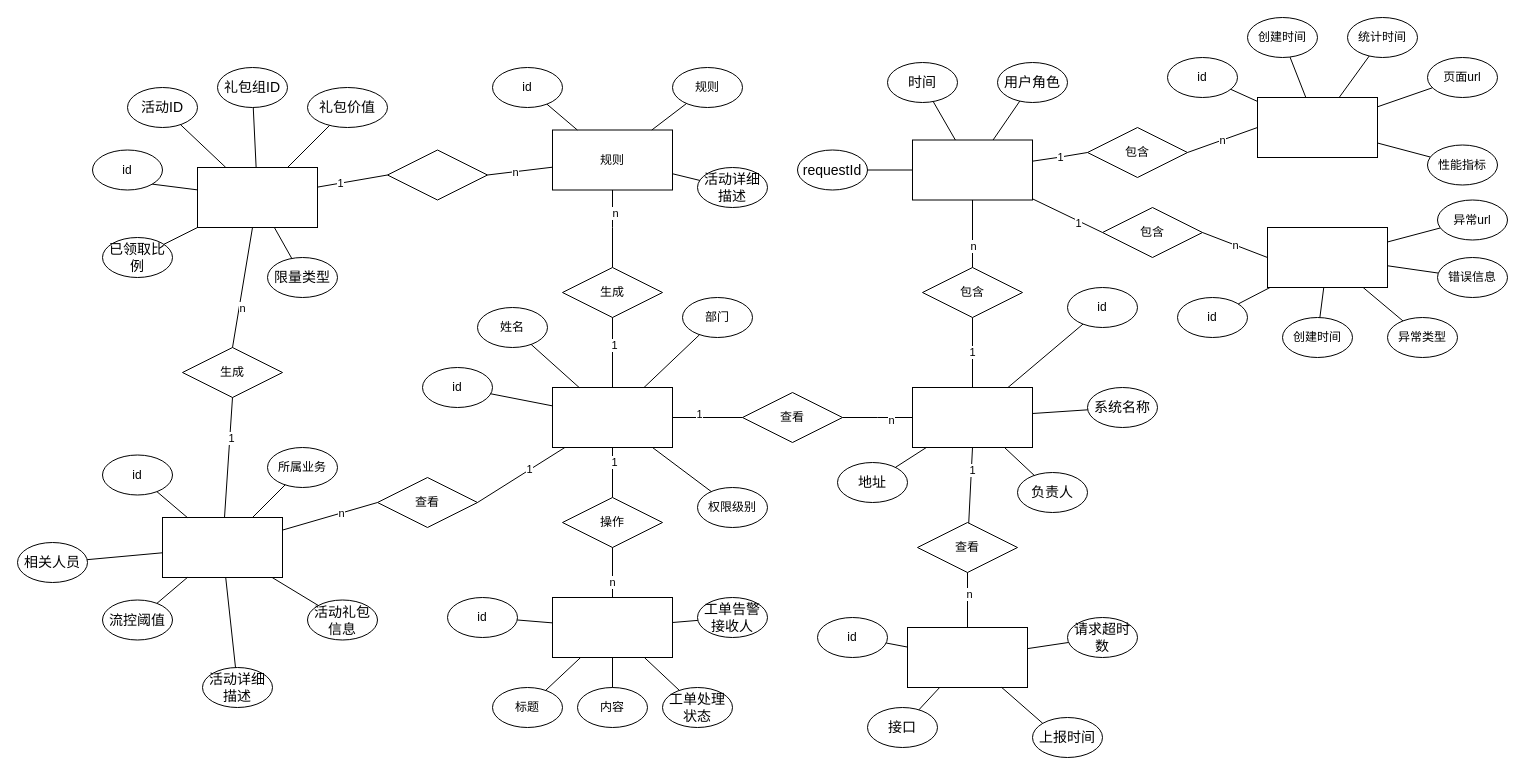
Some shapes in this 1525 by 775 pixel diagram are drawn without their labels. Here are the shapes that lost their labels. From the top down, the box of each, then its label:
(1256, 96, 1378, 158): 性能表
(386, 149, 488, 200): 应用
(912, 139, 1032, 200): 页面信息
(196, 166, 318, 228): 礼包
(1266, 226, 1388, 288): 异常信息表
(552, 386, 672, 448): 角色
(912, 386, 1032, 448): 系统
(162, 516, 282, 578): 活动
(552, 596, 672, 658): 工单
(906, 626, 1028, 688): 接口调用
